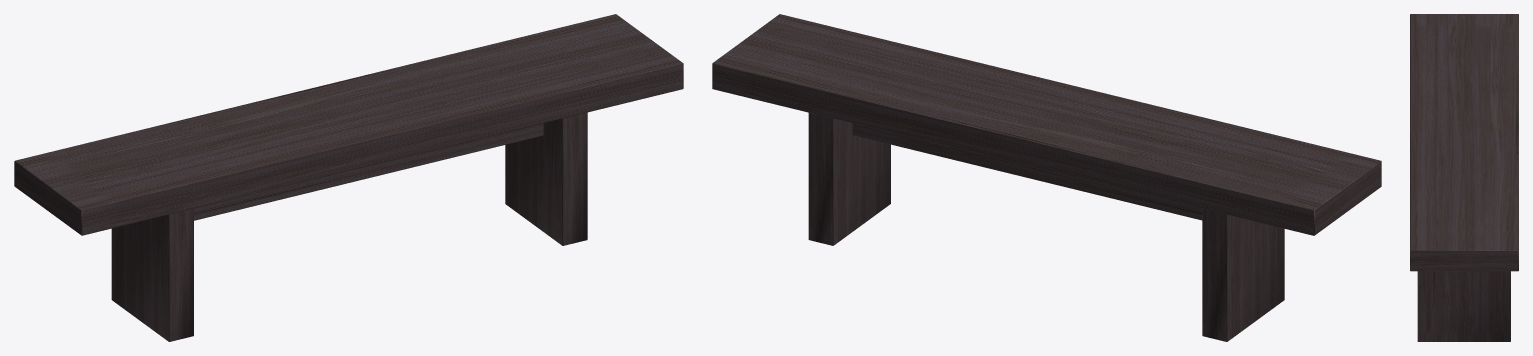
3 renders of one model, left to right at view 1: azimuth 30°, elevation 25°; view 2: azimuth 150°, elevation 25°; view 3: azimuth 270°, elevation 25°, orthographic. The views are drawn at different scales.
Visible parts, largest first — view 1: Object_2; view 2: Object_2; view 3: Object_2.
Boxes of the visible parts, bbox=[...] form: Object_2: bbox=[14, 14, 683, 341]; Object_2: bbox=[712, 14, 1381, 341]; Object_2: bbox=[1410, 14, 1518, 341].
Size of the model in its own units: 183 by 45.86 by 35.56.
1 material, 1 textured.
